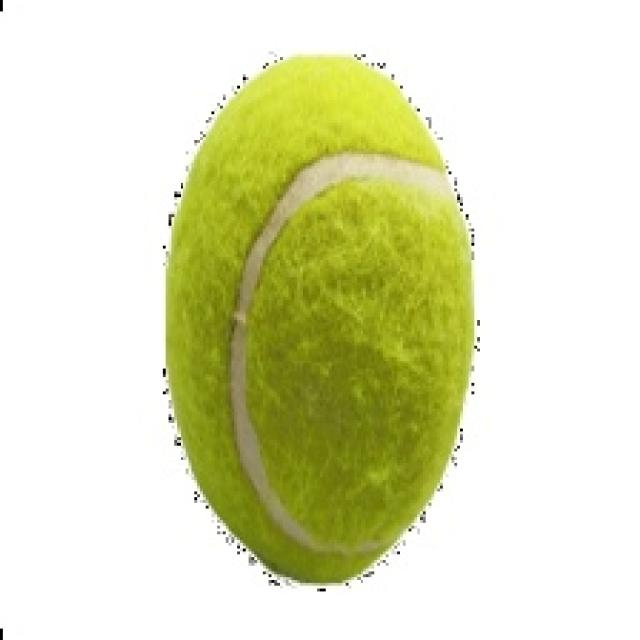Tennis Ball: (163, 54, 474, 586)
